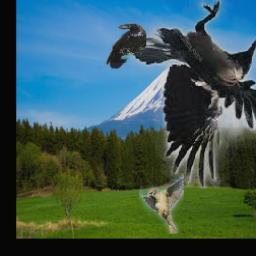Crow: (131, 0, 256, 188), (106, 24, 146, 70)
Sparrow: (139, 174, 184, 235)
